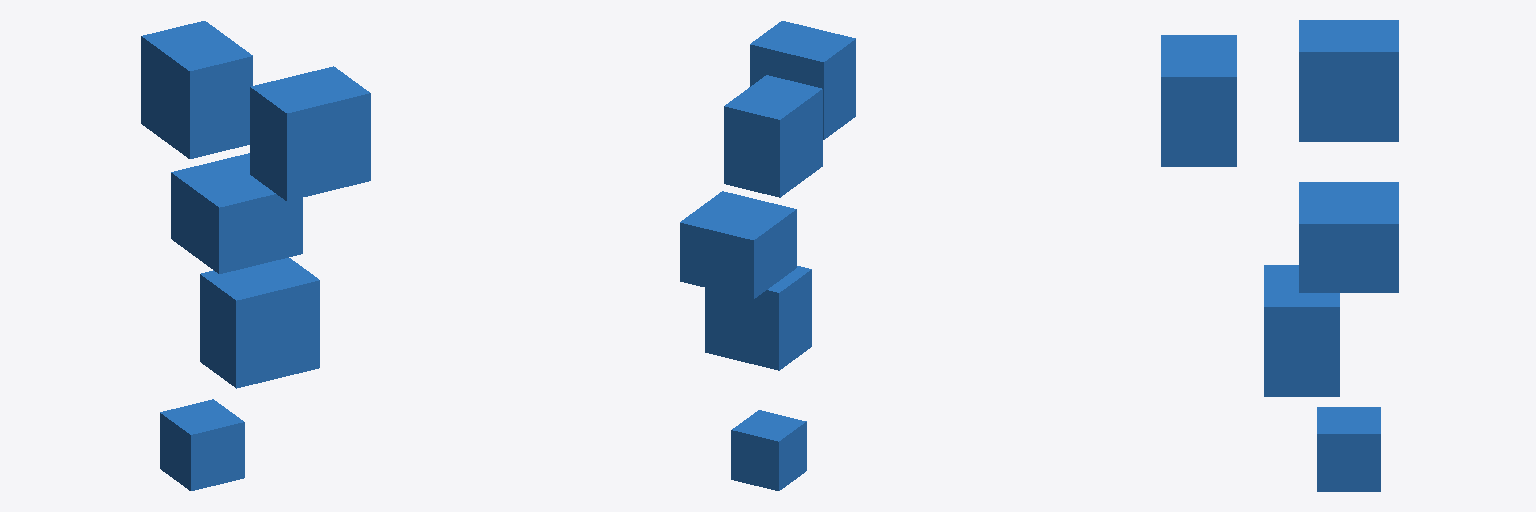
robot.urdf — shoulder_lateral_then_down_envelope_proxy:
<?xml version='1.0' encoding='utf-8'?>
<robot name="shoulder_lateral_then_down_envelope_proxy">
  <link name="world" />
  <link name="joint_0">
    <visual>
      <geometry>
        <box size="0.053 0.0402 0.053" />
      </geometry>
      <material name="m0">
        <color rgba="0.25 0.55 0.85 0.7" />
      </material>
    </visual>
  </link>
  <joint name="fixed_0" type="fixed">
    <parent link="world" />
    <child link="joint_0" />
    <origin xyz="0.0 0.0849 0.295" rpy="0 0 0" />
  </joint>
  <link name="joint_1">
    <visual>
      <geometry>
        <box size="0.0402 0.053 0.053" />
      </geometry>
      <material name="m1">
        <color rgba="0.25 0.55 0.85 0.7" />
      </material>
    </visual>
  </link>
  <joint name="fixed_1" type="fixed">
    <parent link="world" />
    <child link="joint_1" />
    <origin xyz="-0.0251 0.165 0.295" rpy="0 0 0" />
  </joint>
  <link name="joint_2">
    <visual>
      <geometry>
        <box size="0.053 0.053 0.0402" />
      </geometry>
      <material name="m2">
        <color rgba="0.25 0.55 0.85 0.7" />
      </material>
    </visual>
  </link>
  <joint name="fixed_2" type="fixed">
    <parent link="world" />
    <child link="joint_2" />
    <origin xyz="0.0 0.165 0.21489999999999998" rpy="0 0 0" />
  </joint>
  <link name="joint_3">
    <visual>
      <geometry>
        <box size="0.053 0.0402 0.053" />
      </geometry>
      <material name="m3">
        <color rgba="0.25 0.55 0.85 0.7" />
      </material>
    </visual>
  </link>
  <joint name="fixed_3" type="fixed">
    <parent link="world" />
    <child link="joint_3" />
    <origin xyz="0.0 0.1399 0.15999999999999998" rpy="0 0 0" />
  </joint>
  <link name="joint_4">
    <visual>
      <geometry>
        <box size="0.034 0.034 0.034" />
      </geometry>
      <material name="m4">
        <color rgba="0.25 0.55 0.85 0.7" />
      </material>
    </visual>
  </link>
  <joint name="fixed_4" type="fixed">
    <parent link="world" />
    <child link="joint_4" />
    <origin xyz="-0.022000000000000002 0.165 0.07999999999999997" rpy="0 0 0" />
  </joint>
</robot>

--- Render facts (derived) ---
Views: 3 orthographic renders of the robot side by side, from view 1: azimuth 30°, elevation 25°; view 2: azimuth 150°, elevation 25°; view 3: azimuth 270°, elevation 25°.
Model shoulder_lateral_then_down_envelope_proxy with 6 links and 5 joints (5 fixed), rooted at world, posed every joint at zero.
Links seen in each view (by area): view 1: joint_0, joint_3, joint_1, joint_2, joint_4; view 2: joint_1, joint_2, joint_3, joint_0, joint_4; view 3: joint_1, joint_2, joint_0, joint_3, joint_4.
Link boxes in pixels (x1,y1,x2,y2): joint_0: [250, 66, 370, 200]; joint_3: [200, 258, 319, 388]; joint_1: [141, 21, 252, 158]; joint_2: [171, 153, 302, 273]; joint_4: [160, 399, 244, 490]; joint_1: [724, 75, 822, 197]; joint_2: [680, 191, 796, 298]; joint_3: [705, 266, 811, 370]; joint_0: [750, 21, 855, 139]; joint_4: [731, 410, 806, 490]; joint_1: [1299, 20, 1398, 141]; joint_2: [1299, 182, 1398, 292]; joint_0: [1161, 35, 1236, 166]; joint_3: [1264, 265, 1339, 396]; joint_4: [1317, 407, 1380, 491].
Size in the robot's own frame: 0.0717 by 0.1267 by 0.2585 metres.
Geometry: primitives only (box / cylinder / sphere), no mesh files.
